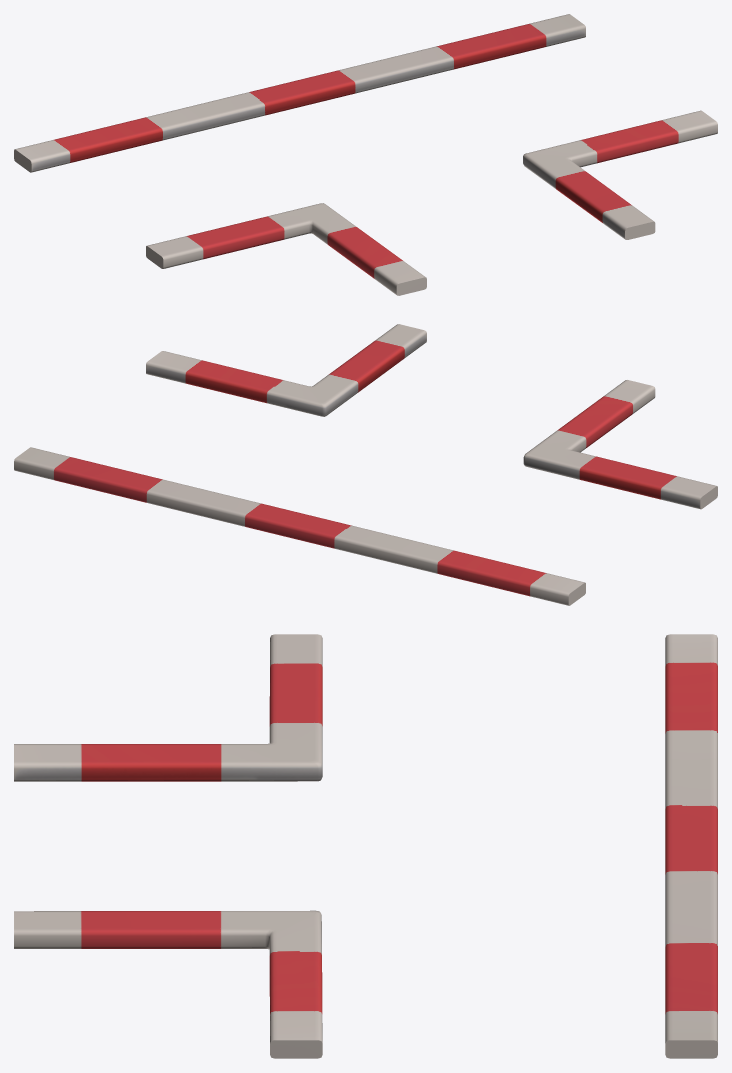
Rendered from Road_T_Out.fbx.
3 renders of one model, top to bottom at view 1: azimuth 30°, elevation 25°; view 2: azimuth 150°, elevation 25°; view 3: azimuth 270°, elevation 25°, orthographic. The views are drawn at different scales.
Visible parts, largest first — view 1: Road_T_Out; view 2: Road_T_Out; view 3: Road_T_Out.
Part boxes in pixels (x1=…): Road_T_Out: x1=14, y1=14, x2=717, y2=295; Road_T_Out: x1=14, y1=324, x2=717, y2=605; Road_T_Out: x1=14, y1=634, x2=717, y2=1058.
Size of the model in its own units: 1500 by 31.69 by 1100.
